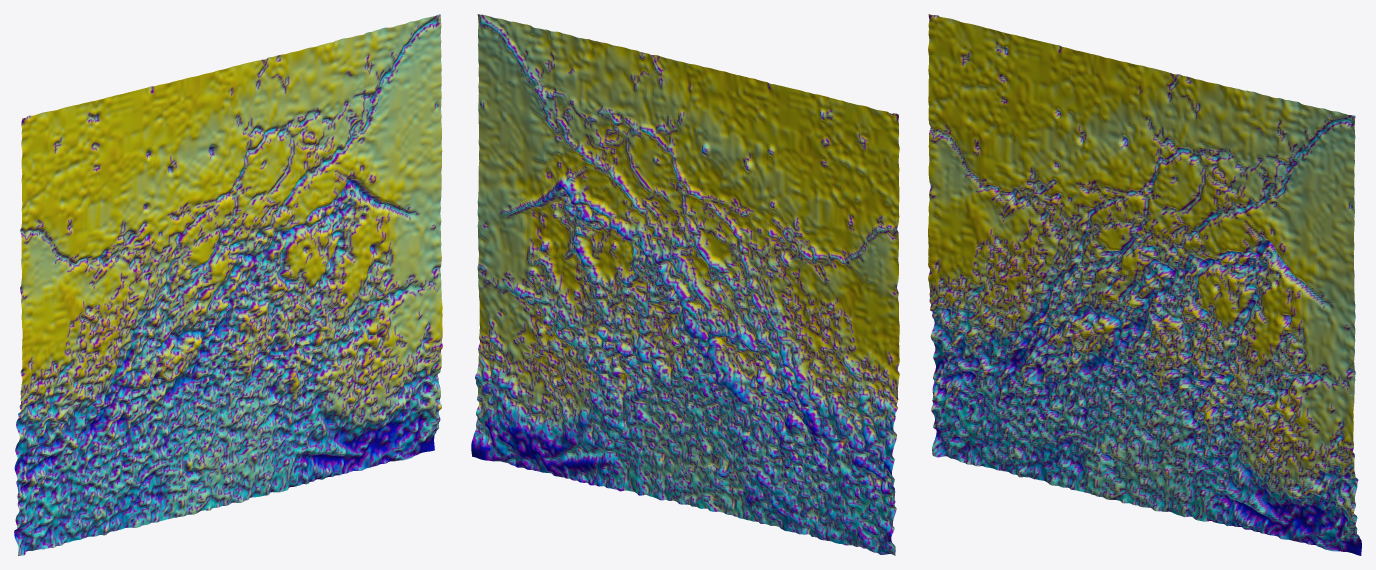
The picture shows the model from 3 angles, left to right: view 1: azimuth 30°, elevation 25°; view 2: azimuth 150°, elevation 25°; view 3: azimuth 330°, elevation 25°; orthographic projection.
Parts seen in each view (by area): view 1: world; view 2: world; view 3: world.
Boxes of the visible parts, x1=… form: world: x1=14, y1=14, x2=442, y2=555; world: x1=471, y1=14, x2=899, y2=555; world: x1=928, y1=14, x2=1361, y2=555.
Bounding box in the file's own units: 299 × 299 × 12.
